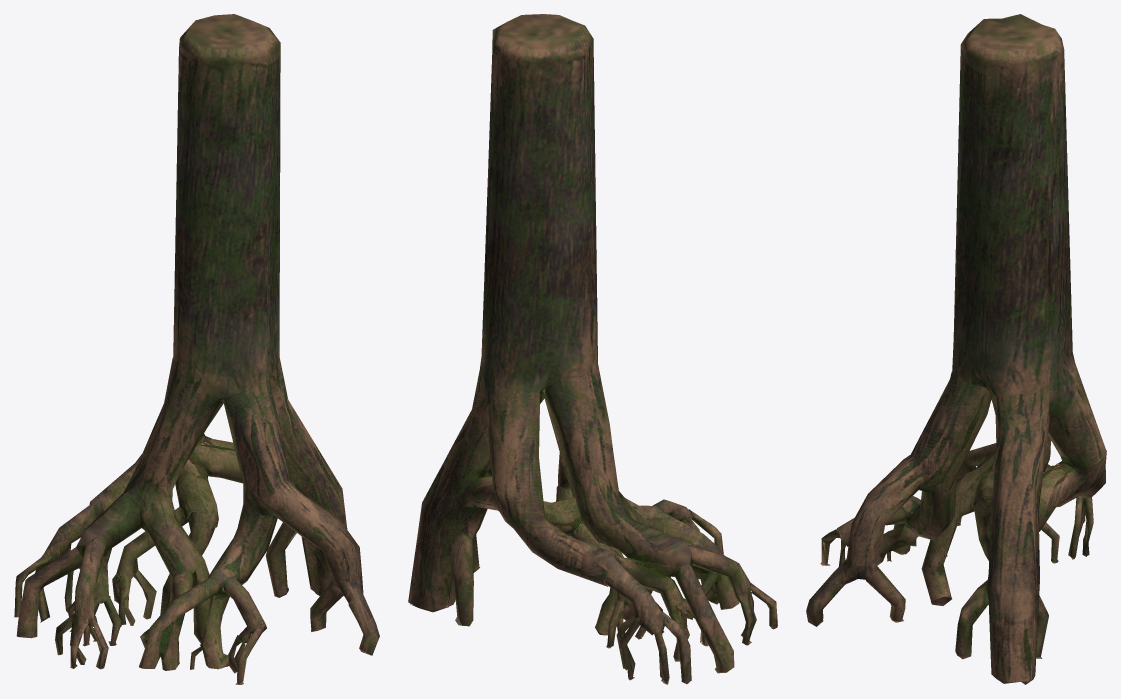
The picture shows the model from 3 angles, left to right: view 1: azimuth 30°, elevation 25°; view 2: azimuth 150°, elevation 25°; view 3: azimuth 270°, elevation 25°; orthographic projection. The views are drawn at different scales.
Parts seen in each view (by area): view 1: tree:polySurface1; view 2: tree:polySurface1; view 3: tree:polySurface1.
Boxes of the visible parts, <box> form: tree:polySurface1: <box>14,14,379,684</box>; tree:polySurface1: <box>408,14,777,684</box>; tree:polySurface1: <box>806,14,1106,684</box>.
Size of the model in its own units: 0.1548 by 0.2704 by 0.1233.
Materials: 1 (1 with a texture image).
